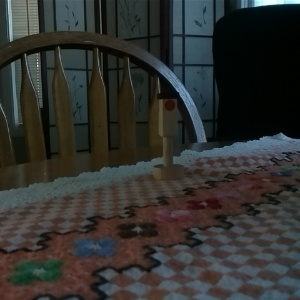traffic light red: (151, 89, 187, 182)
